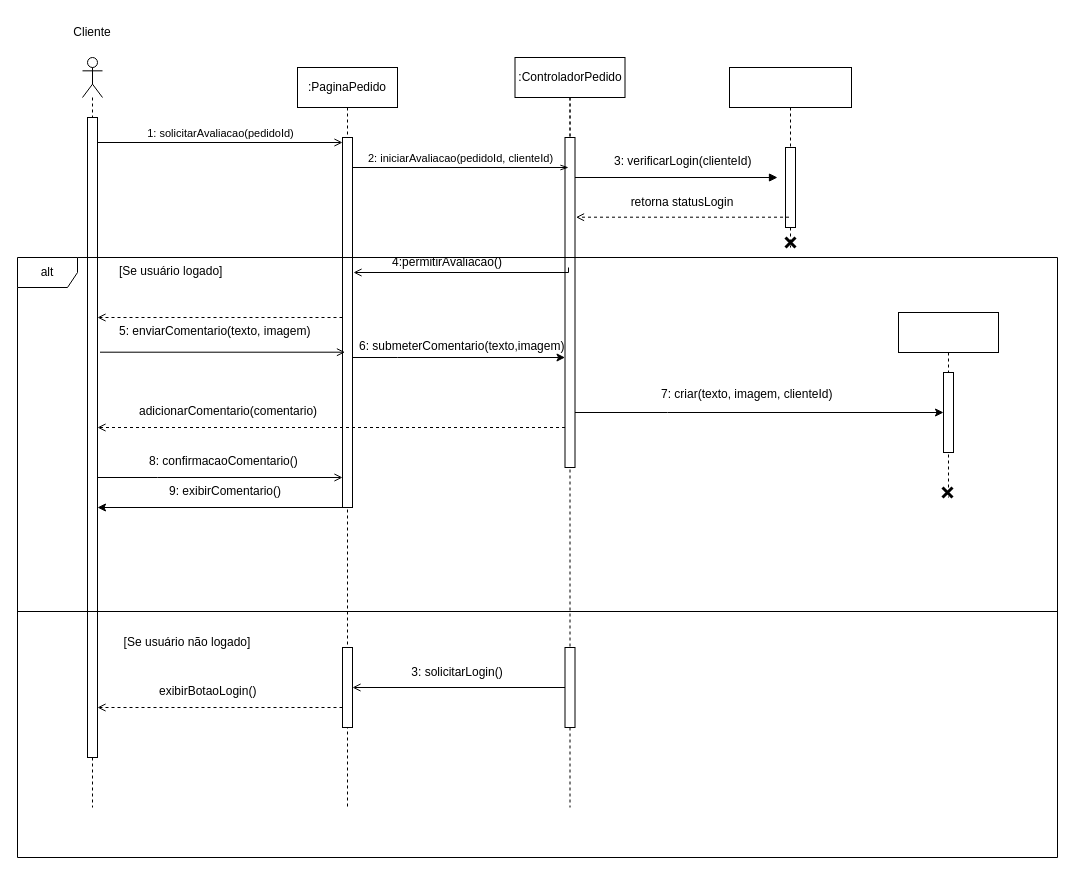
This 1075x875 diagram has some shape labels left out. The shapes that lost their labels are listed below. From the top down, each one's box as (x1, y1, x2, y2) in pixels, then its label:
(728, 66, 852, 248): :ServiçoAutenticação
(898, 312, 998, 498): :Comentario
